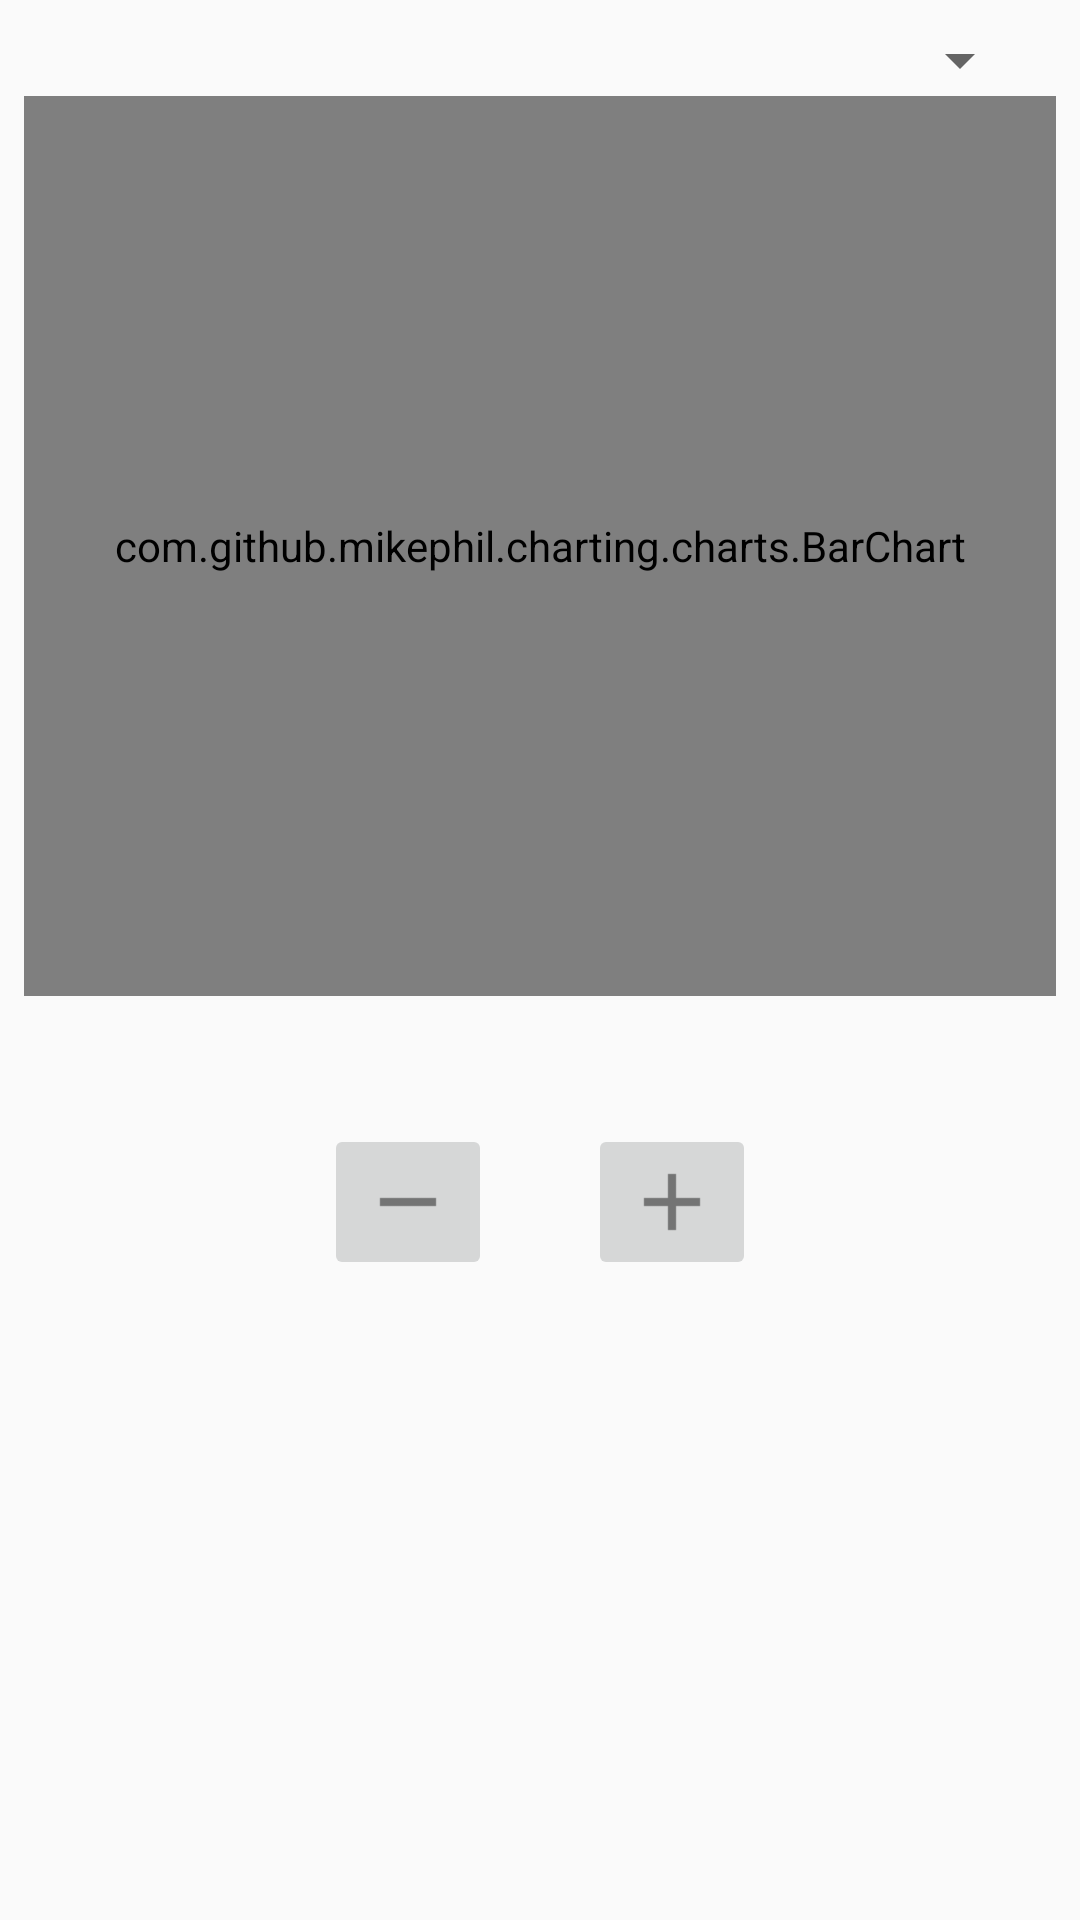

Where to tap for icons on this 1080px×1920px app screen, as [x,y]:
Decrease score: [408,1202]
Increase score: [672,1202]
